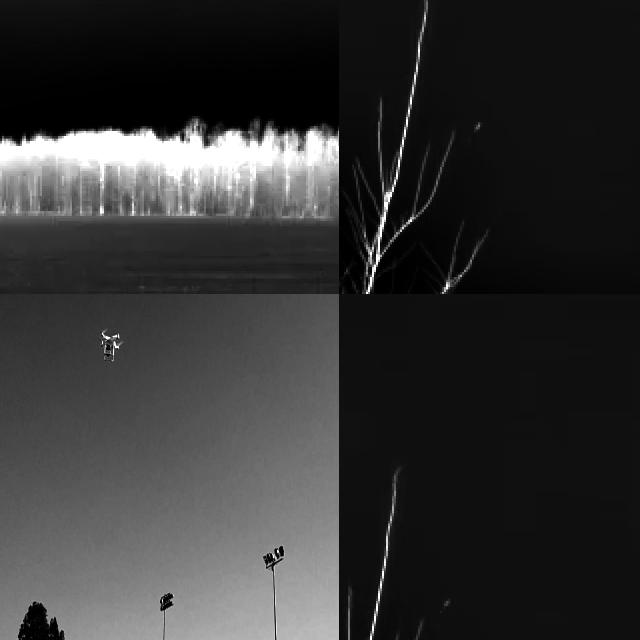0: (437, 590, 459, 620), (470, 113, 490, 143)
drone: (96, 326, 125, 364)
